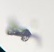microplastic: (6, 26, 32, 42)
